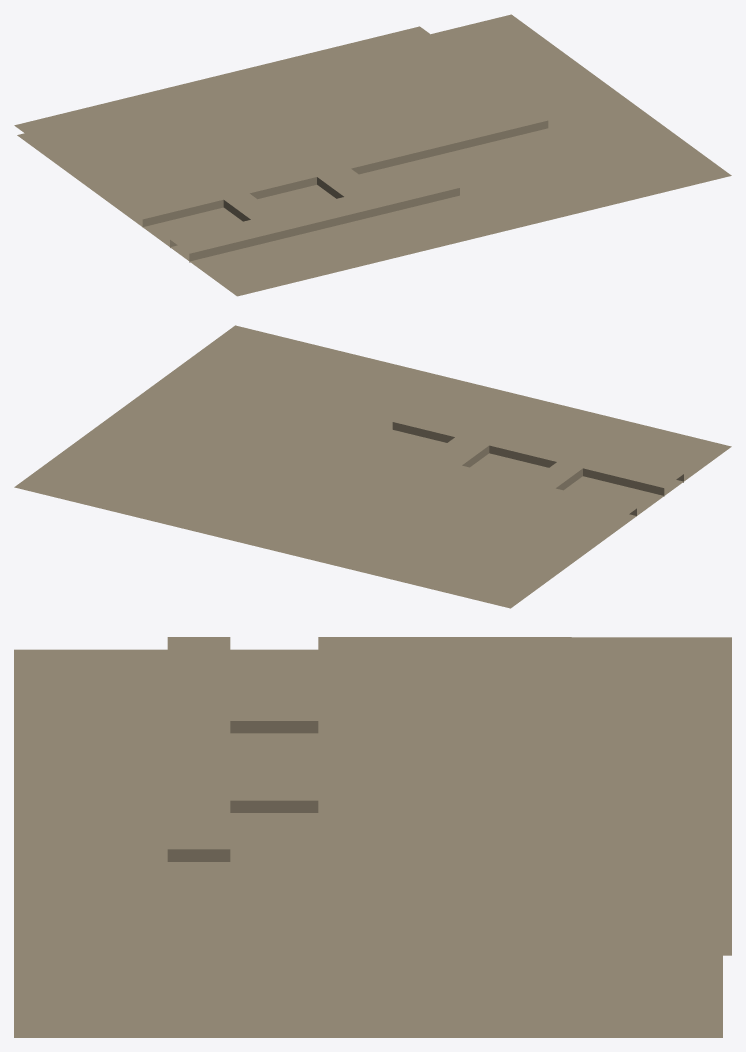
File: Groud004.fbx
3 views of the same model, one above another, from view 1: azimuth 30°, elevation 25°; view 2: azimuth 150°, elevation 25°; view 3: azimuth 270°, elevation 25° (orthographic). The views are drawn at different scales.
Parts seen in each view (by area): view 1: Ground; view 2: Ground; view 3: Ground.
Part boxes in pixels (x1=…): Ground: x1=14, y1=14, x2=731, y2=296; Ground: x1=14, y1=325, x2=731, y2=608; Ground: x1=14, y1=637, x2=731, y2=1037.
Bounding box in the file's own units: 7314 × 126 × 5716.
